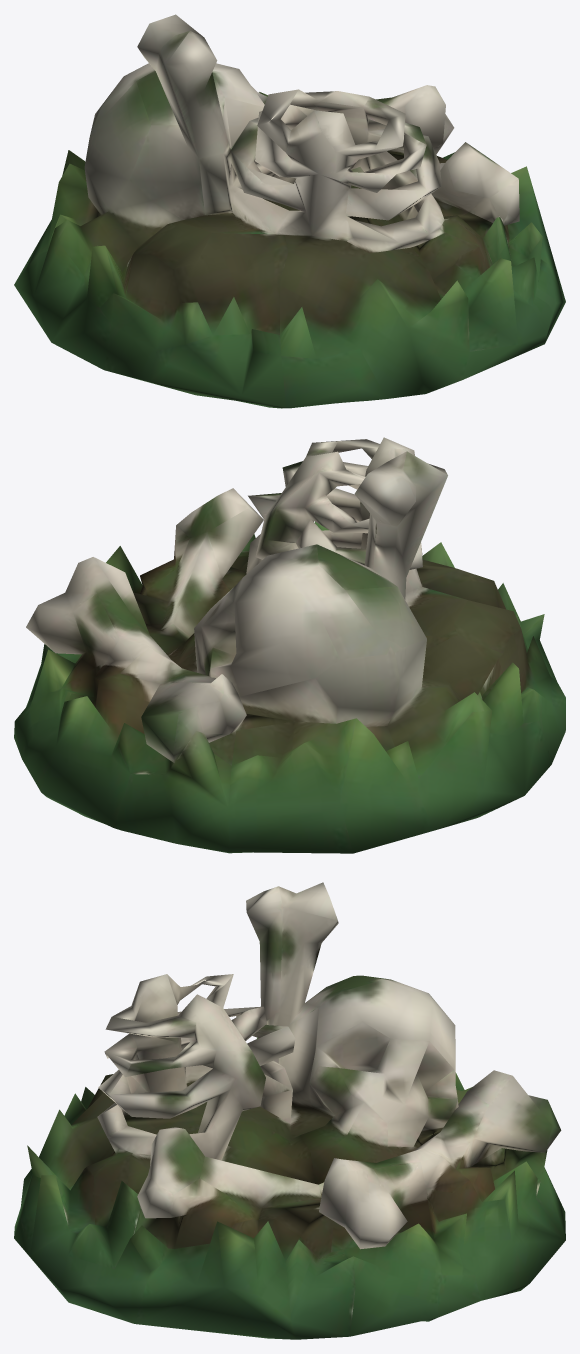
The model's file is gy_bones-CCr5E-fi.glb.
3 renders of one model, top to bottom at view 1: azimuth 30°, elevation 25°; view 2: azimuth 150°, elevation 25°; view 3: azimuth 270°, elevation 25°, orthographic. The views are drawn at different scales.
Visible parts, largest first — view 1: tripo_node_f281db80-44fa-4d18-b2f0-f9174a9e0bc2; view 2: tripo_node_f281db80-44fa-4d18-b2f0-f9174a9e0bc2; view 3: tripo_node_f281db80-44fa-4d18-b2f0-f9174a9e0bc2.
Part boxes in pixels (bbox=[...]): tripo_node_f281db80-44fa-4d18-b2f0-f9174a9e0bc2: bbox=[14, 14, 565, 408]; tripo_node_f281db80-44fa-4d18-b2f0-f9174a9e0bc2: bbox=[14, 437, 565, 853]; tripo_node_f281db80-44fa-4d18-b2f0-f9174a9e0bc2: bbox=[14, 882, 565, 1339].
Bounding box in the file's own units: 0.9579 × 0.6018 × 1.
Materials: 1 (1 with a texture image).
